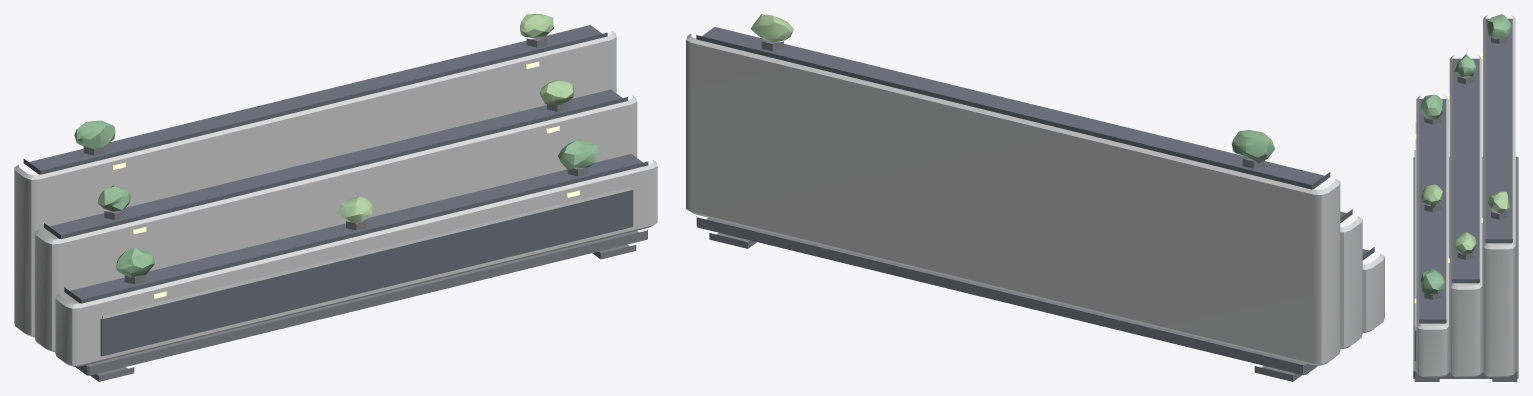
Rendered from hydro_planter_tiered_ts2_01.glb.
The picture shows the model from 3 angles, left to right: view 1: azimuth 30°, elevation 25°; view 2: azimuth 150°, elevation 25°; view 3: azimuth 270°, elevation 25°; orthographic projection. The views are drawn at different scales.
Visible parts, largest first — view 1: Tiers, Tier_Lids, Reservoir, Base_Frame, Foliage, Reservoir_Seal, Foliage_Light, Net_Cup_Clips, Clamp_Shoes; view 2: Tiers, Tier_Lids, Base_Frame, Foliage, Foliage_Light, Clamp_Shoes; view 3: Tier_Lids, Tiers, Base_Frame, Foliage, Foliage_Light, Net_Cup_Clips, Reservoir, Reservoir_Seal, Clamp_Shoes.
Boxes of the visible parts, x1=… form: Tiers: x1=14, y1=31, x2=657, y2=366; Tier_Lids: x1=23, y1=25, x2=648, y2=303; Reservoir: x1=100, y1=190, x2=633, y2=356; Base_Frame: x1=75, y1=229, x2=647, y2=375; Foliage: x1=74, y1=120, x2=598, y2=277; Reservoir_Seal: x1=102, y1=187, x2=631, y2=319; Foliage_Light: x1=337, y1=14, x2=574, y2=223; Net_Cup_Clips: x1=83, y1=38, x2=588, y2=284; Clamp_Shoes: x1=90, y1=244, x2=636, y2=381; Tiers: x1=686, y1=33, x2=1384, y2=365; Tier_Lids: x1=696, y1=27, x2=1374, y2=260; Base_Frame: x1=696, y1=216, x2=1318, y2=375; Foliage: x1=1231, y1=130, x2=1274, y2=162; Foliage_Light: x1=750, y1=14, x2=793, y2=42; Clamp_Shoes: x1=709, y1=233, x2=1301, y2=381; Tier_Lids: x1=1419, y1=18, x2=1512, y2=323; Tiers: x1=1416, y1=15, x2=1515, y2=377; Base_Frame: x1=1413, y1=156, x2=1518, y2=378; Foliage: x1=1420, y1=14, x2=1511, y2=294; Foliage_Light: x1=1421, y1=184, x2=1509, y2=254; Net_Cup_Clips: x1=1424, y1=36, x2=1507, y2=299; Reservoir: x1=1414, y1=150, x2=1416, y2=360; Reservoir_Seal: x1=1415, y1=121, x2=1416, y2=330; Clamp_Shoes: x1=1414, y1=379, x2=1517, y2=381.
Bounding box in the file's own units: 2 × 0.6786 × 0.38.
